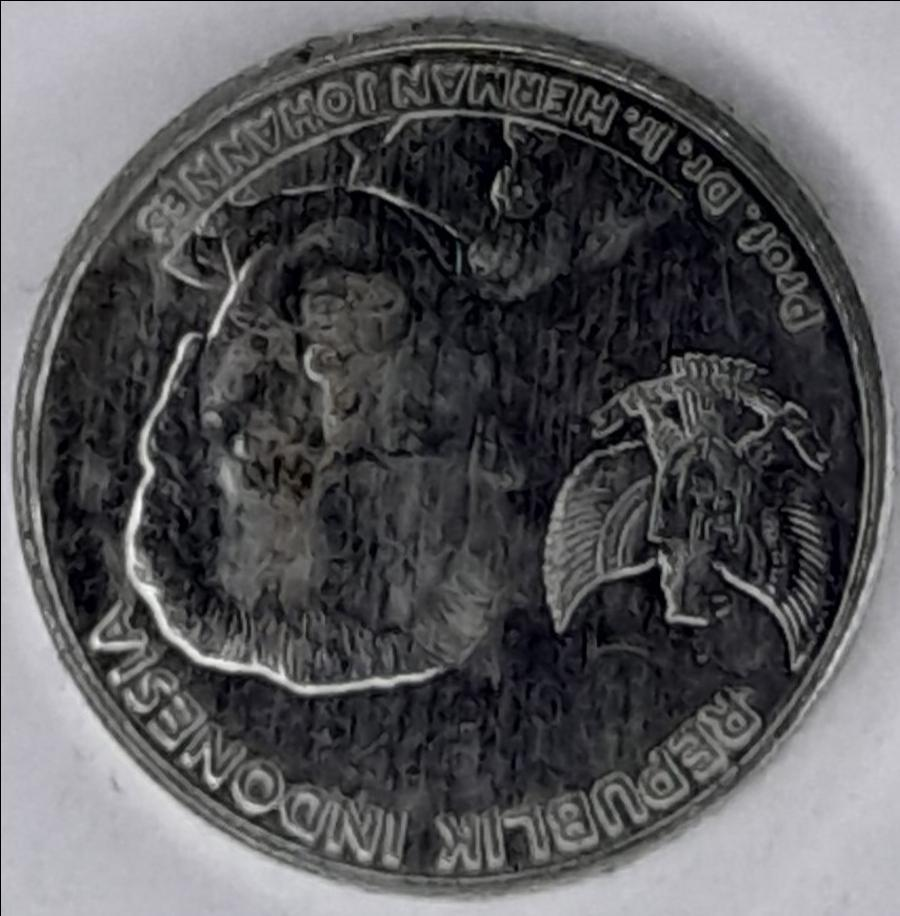coin_100_e2016: (8, 9, 896, 896)
